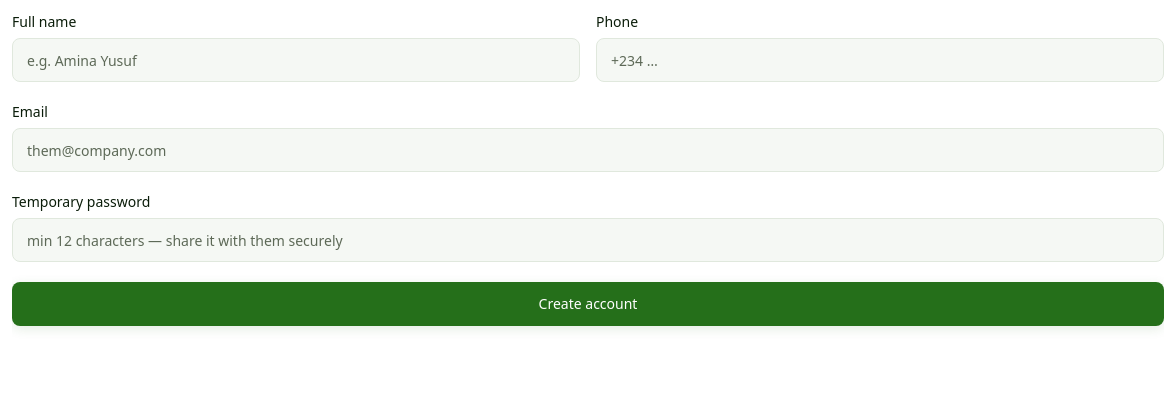
submits a fixed driver login without changing its role or creating a company
The image size is (1176, 410).
Type "New driver" into the field labelled "Full name" at (296, 60), box [12, 38, 580, 82]
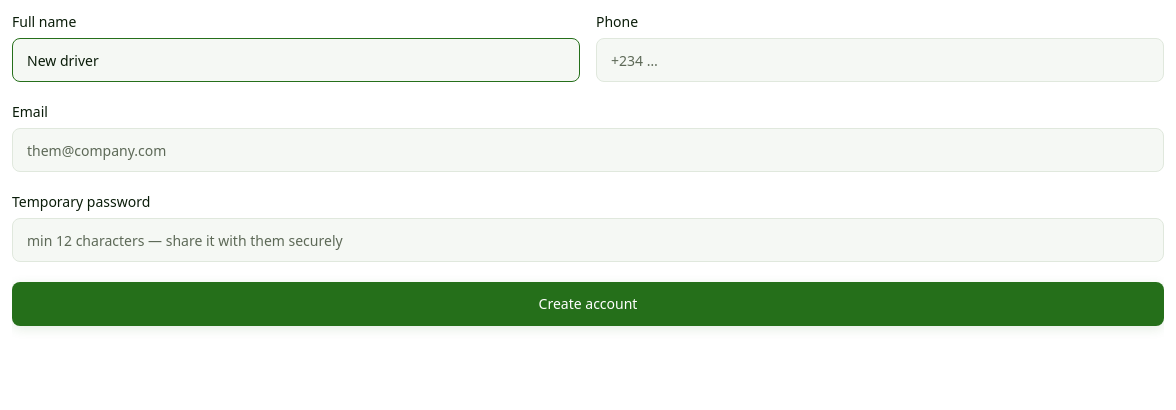
Type "new-driver@example.com" into the field labelled "Email" at (588, 150), box [12, 128, 1164, 172]
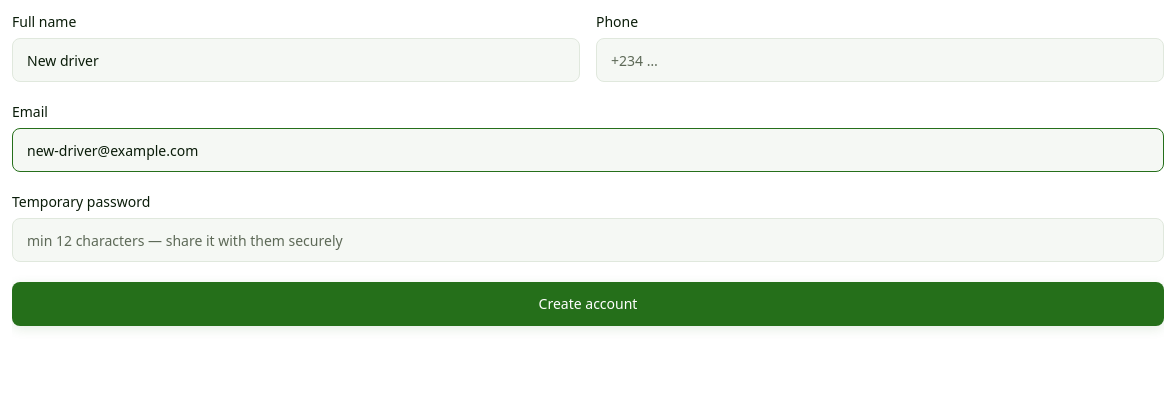
Type "TemporaryDriver123!" into the field labelled "Temporary password" at (588, 240), box [12, 218, 1164, 262]
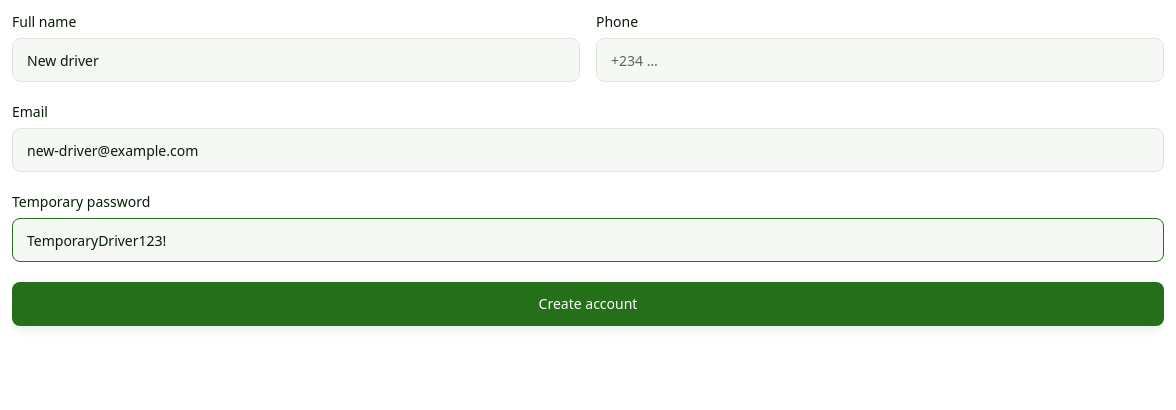
Click the button "Create account" at (588, 304), box [12, 282, 1164, 326]
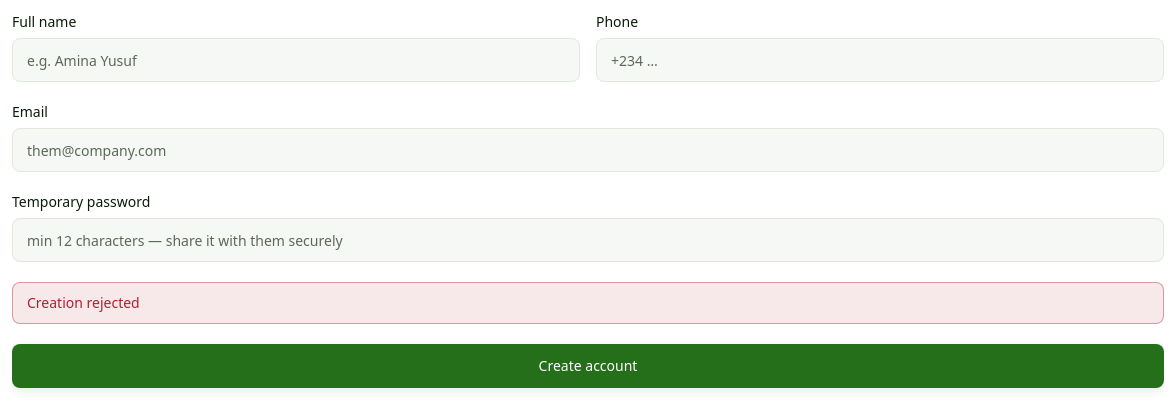
Expected: the message "Creation rejected" is shown, [12, 282, 1164, 324]
